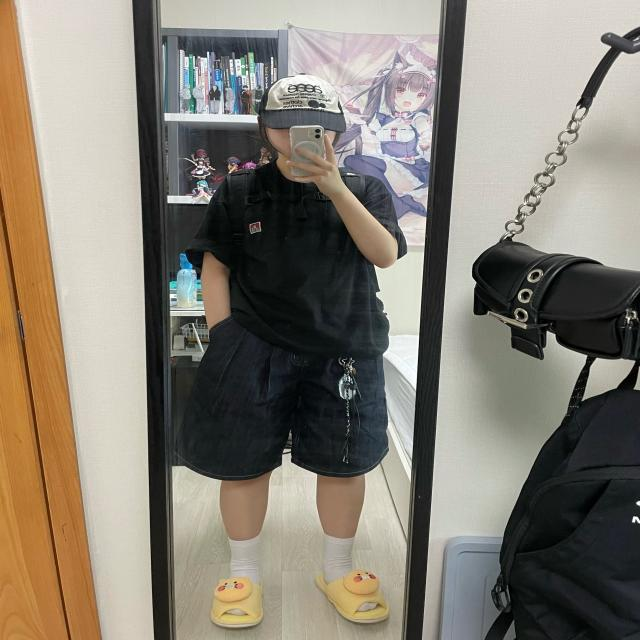shortpants: (183, 311, 384, 482)
shortsleeve: (193, 160, 408, 360)
